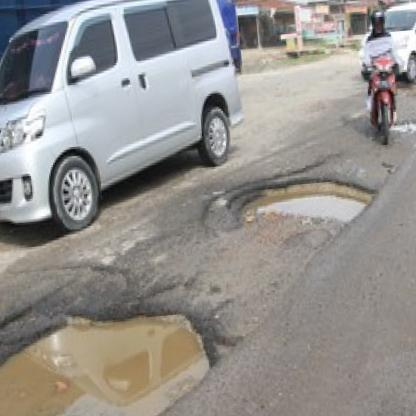pothole: (0, 302, 221, 416), (226, 171, 380, 236)
